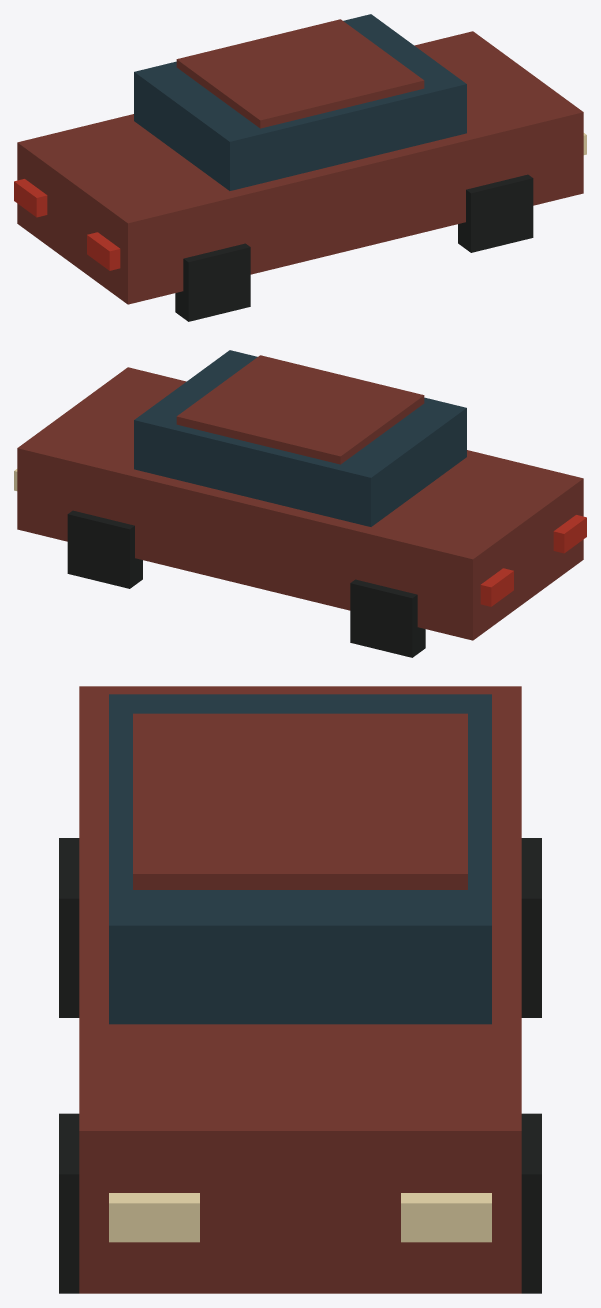
Rendered from traffic-car-3.glb.
3 views of the same model, one above another, from view 1: azimuth 30°, elevation 25°; view 2: azimuth 150°, elevation 25°; view 3: azimuth 270°, elevation 25° (orthographic). The views are drawn at different scales.
Bounding box in the file's own units: 4.61 × 1.53 × 2.02.
